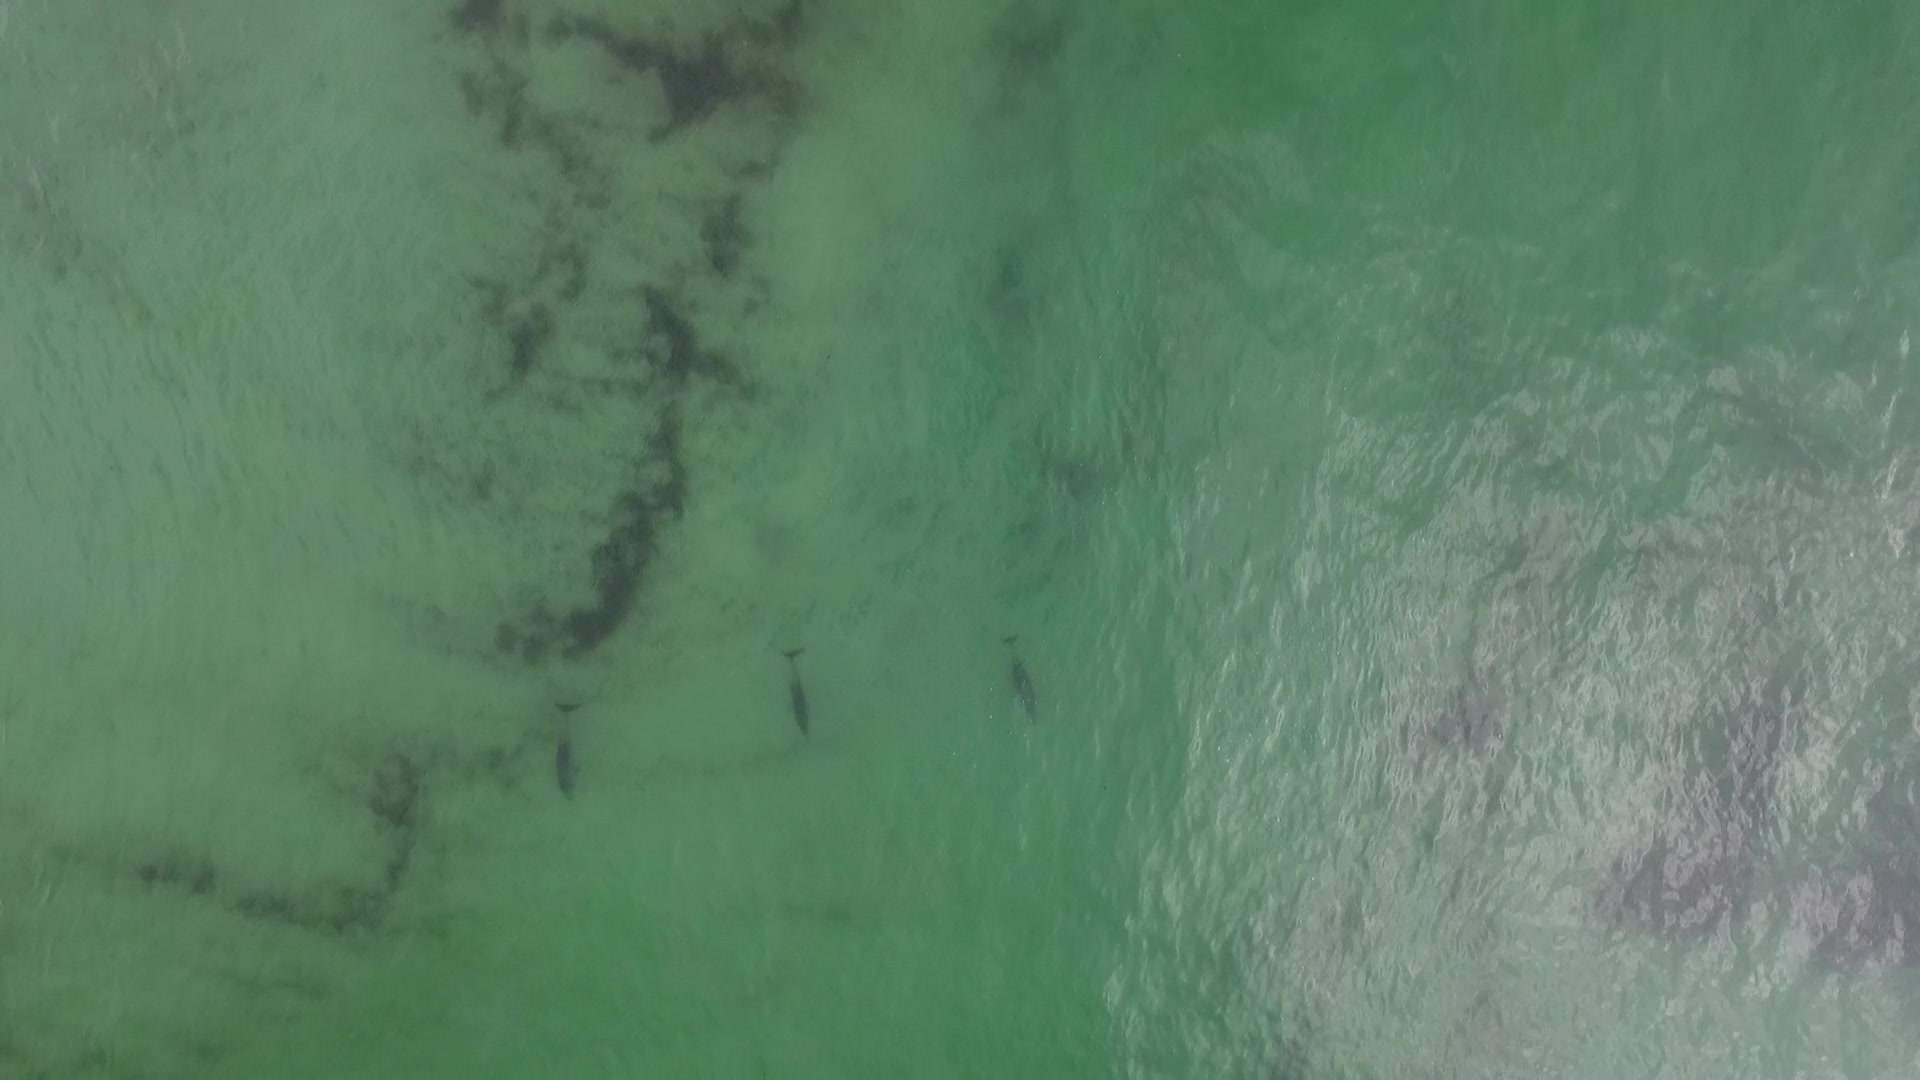dolphin: (760, 620, 832, 756), (982, 611, 1048, 742), (542, 692, 591, 814)
